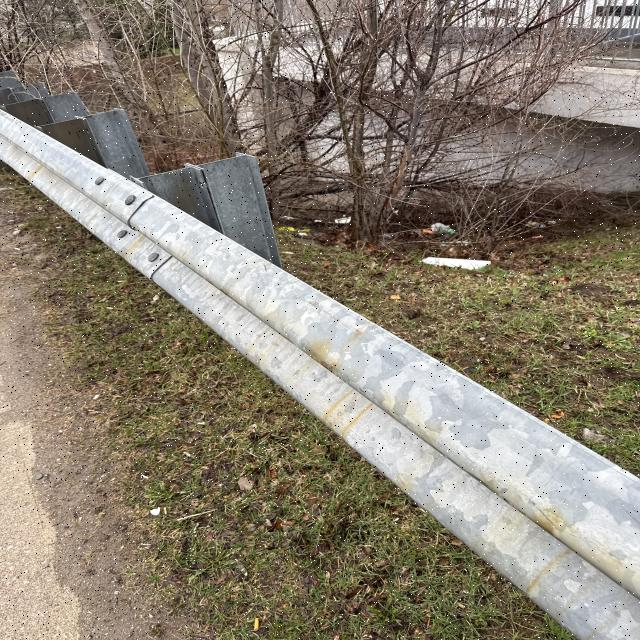Guard rail: (0, 140, 602, 607)
